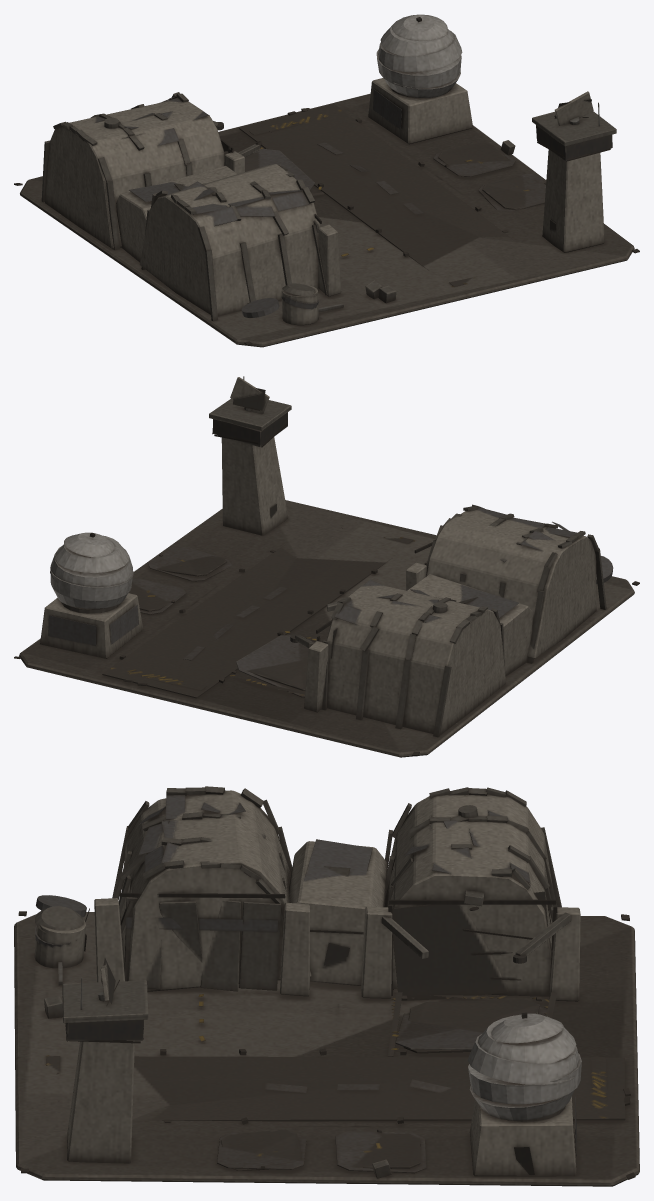
Rendered from ord_advairfield_wreck.fbx.
The picture shows the model from 3 angles, top to bottom: view 1: azimuth 30°, elevation 25°; view 2: azimuth 150°, elevation 25°; view 3: azimuth 270°, elevation 25°; orthographic projection. The views are drawn at different scales.
Parts seen in each view (by area): view 1: base_bar, radarPanel_bar; view 2: base_bar, radarPanel_bar; view 3: base_bar.
Boxes of the visible parts, box(x1,y1,x2,y2) form: base_bar: box(14, 14, 639, 347); radarPanel_bar: box(554, 91, 593, 125); base_bar: box(14, 376, 639, 757); radarPanel_bar: box(230, 377, 269, 414); base_bar: box(14, 786, 639, 1186).
Bounding box in the file's own units: 4784 × 1844 × 4736.
Materials: 2 (2 with a texture image).
